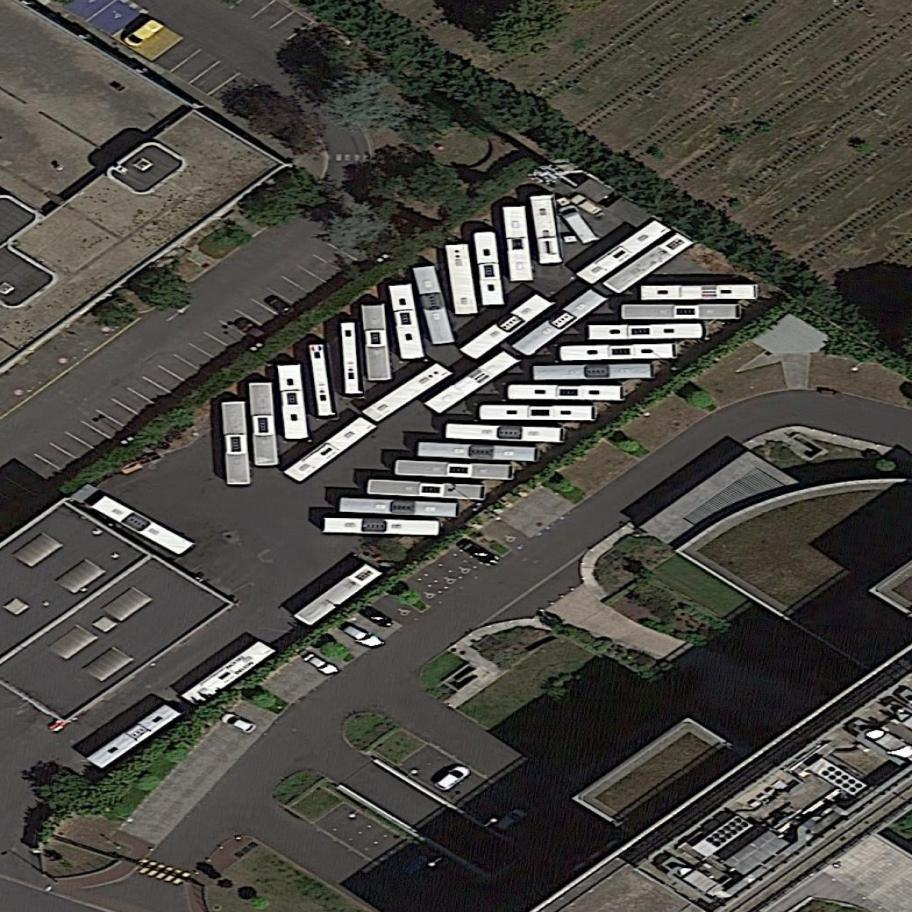large-vehicle: (510, 284, 611, 363), (84, 699, 183, 776), (458, 288, 555, 366), (282, 412, 380, 489), (180, 636, 279, 712), (90, 491, 197, 560), (424, 345, 521, 420), (577, 216, 673, 290), (600, 228, 695, 300), (361, 357, 455, 428), (291, 558, 383, 630), (414, 263, 457, 348), (389, 283, 426, 362), (394, 459, 518, 482), (340, 496, 457, 520), (367, 478, 489, 501), (473, 229, 508, 308), (276, 363, 311, 441), (323, 516, 441, 539), (249, 381, 280, 467), (529, 193, 565, 266), (419, 440, 537, 462), (221, 401, 251, 487), (447, 422, 564, 444), (446, 242, 480, 316), (504, 206, 536, 283), (362, 303, 392, 382), (590, 323, 704, 342), (308, 341, 336, 418), (535, 364, 653, 382), (508, 384, 625, 402), (641, 284, 760, 301), (480, 404, 596, 421), (562, 344, 677, 361), (622, 304, 742, 320), (340, 322, 365, 395)
small-vehicle: (556, 198, 603, 251), (454, 534, 504, 570), (121, 14, 166, 52), (432, 760, 475, 796), (340, 621, 386, 654), (492, 804, 532, 837), (359, 601, 399, 634), (301, 650, 342, 682), (216, 709, 257, 737), (231, 314, 269, 343), (568, 191, 606, 220), (399, 850, 434, 880), (264, 292, 299, 322)
